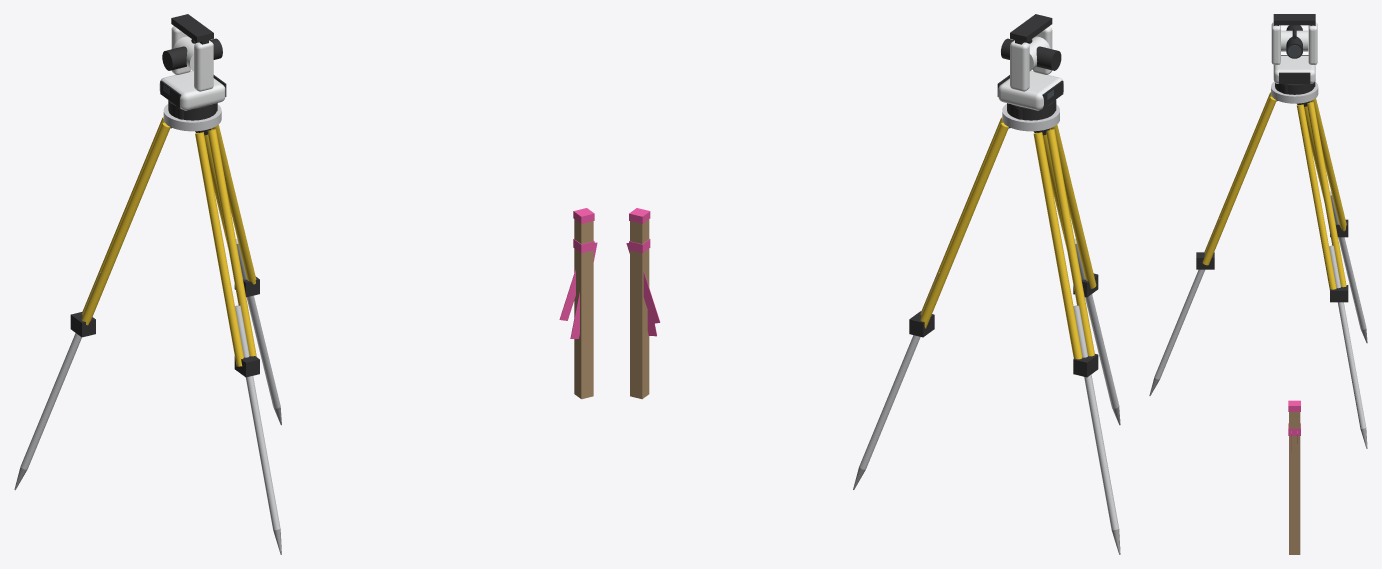
The model's file is survey_tripod_and_stake.glb.
3 renders of one model, left to right at view 1: azimuth 30°, elevation 25°; view 2: azimuth 150°, elevation 25°; view 3: azimuth 270°, elevation 25°, orthographic. The views are drawn at different scales.
Parts seen in each view (by area): view 1: tripod, survey_stake, total_station_rotate, telescope_tilt; view 2: tripod, survey_stake, total_station_rotate, telescope_tilt; view 3: tripod, total_station_rotate, survey_stake, telescope_tilt.
Part boxes in pixels (bbox=[...]): tripod: bbox=[14, 100, 281, 554]; survey_stake: bbox=[559, 208, 597, 399]; total_station_rotate: bbox=[159, 14, 226, 110]; telescope_tilt: bbox=[162, 36, 222, 71]; tripod: bbox=[853, 100, 1120, 554]; survey_stake: bbox=[626, 208, 660, 399]; total_station_rotate: bbox=[997, 14, 1063, 110]; telescope_tilt: bbox=[1001, 36, 1061, 71]; tripod: bbox=[1149, 81, 1367, 448]; total_station_rotate: bbox=[1271, 14, 1317, 83]; survey_stake: bbox=[1288, 400, 1300, 554]; telescope_tilt: bbox=[1281, 25, 1308, 58].
Size of the model in its own units: 1.92 by 1.59 by 0.8287.
8 materials, 8 textured.
